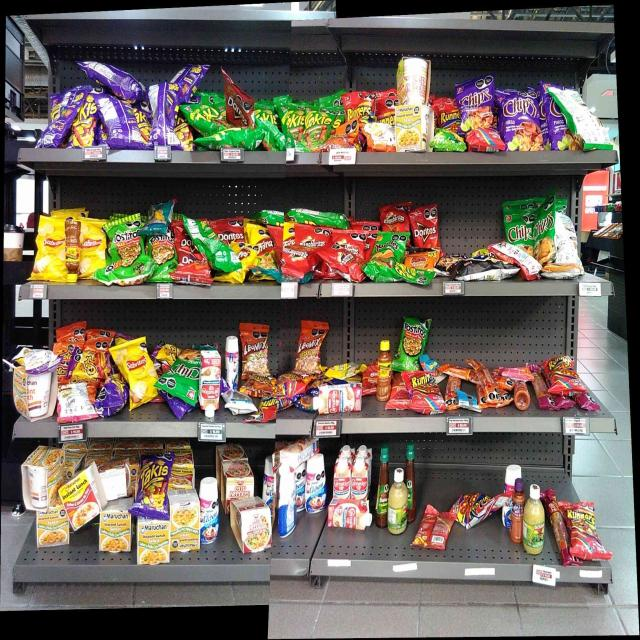bitzEnchilado95: (480, 357, 498, 411)
bitzHabanero: (547, 490, 565, 562), (536, 362, 548, 410)
botaneraChilito: (65, 220, 81, 284), (377, 340, 391, 400)
cheetosFlaminHot: (71, 350, 109, 377), (155, 342, 178, 361)
chipsFuego: (504, 93, 538, 150), (463, 84, 494, 128), (547, 102, 569, 152)
chipsJalapeno: (505, 212, 534, 248), (180, 346, 198, 404), (536, 212, 554, 261)
chipsPapatinas: (432, 133, 465, 151)
churrumais: (499, 362, 534, 382)
delPrimoSalsa: (525, 484, 544, 555), (389, 468, 406, 534)
doritosNacho: (174, 225, 197, 267), (410, 211, 437, 246), (227, 93, 250, 129), (217, 222, 244, 243)
fritosLimon: (248, 225, 272, 268)
hotNutsOriginal: (410, 250, 437, 270)
leoCacahuates: (224, 392, 256, 414)
leoMix: (242, 324, 268, 376), (298, 320, 320, 374), (332, 120, 355, 148)
maruchanPollo: (24, 447, 58, 508), (13, 375, 53, 419), (396, 107, 430, 153), (171, 500, 199, 552), (138, 522, 168, 564), (100, 512, 128, 552), (36, 511, 64, 546)
maruchanRes: (66, 475, 96, 517)
nestleCarnation: (201, 351, 220, 418), (313, 387, 361, 411), (329, 502, 368, 530), (334, 465, 351, 498), (353, 465, 368, 500)
nestleLechera: (202, 480, 218, 543), (307, 460, 326, 512), (279, 474, 294, 534), (224, 335, 238, 388), (263, 459, 275, 497), (296, 469, 306, 512)
nissinCamaron: (397, 60, 429, 105)
nissinRes: (232, 499, 270, 552), (223, 463, 253, 496)
popKarameladas: (441, 255, 466, 280)
productoAtras: (81, 59, 143, 95), (574, 91, 602, 151), (100, 96, 131, 148), (556, 213, 578, 263), (45, 110, 73, 148), (155, 83, 171, 146), (424, 506, 446, 550), (60, 384, 86, 420), (173, 64, 196, 101), (20, 348, 56, 369), (364, 128, 394, 152), (226, 132, 263, 150), (505, 250, 534, 270), (200, 222, 215, 260), (218, 246, 238, 273), (457, 391, 477, 412)
rancheritos: (336, 237, 362, 267), (281, 248, 309, 273), (298, 224, 328, 247), (379, 206, 407, 230)
rufflesQueso: (376, 234, 404, 260)
runners: (570, 502, 596, 558), (404, 372, 439, 412), (452, 491, 490, 523), (548, 357, 578, 395), (432, 100, 460, 129), (346, 94, 374, 116), (259, 398, 285, 421), (376, 96, 395, 125)
sabritasOriginal: (39, 216, 64, 282), (128, 346, 152, 403), (84, 220, 102, 268)
salsaBufalo: (377, 447, 387, 528), (409, 443, 416, 520)
semillasCalabaza: (325, 363, 365, 379)
semillasGirasol: (148, 204, 170, 234)
tajinDulce: (513, 478, 523, 542)
takisFuego: (140, 456, 168, 517), (75, 104, 97, 147), (173, 116, 192, 151), (134, 108, 152, 140)
takisOriginal: (362, 262, 406, 283), (286, 104, 305, 152), (197, 105, 223, 135), (307, 108, 331, 137), (256, 103, 280, 128)
tostitos: (105, 258, 146, 286), (108, 221, 140, 255), (150, 238, 171, 280), (404, 318, 427, 356)
